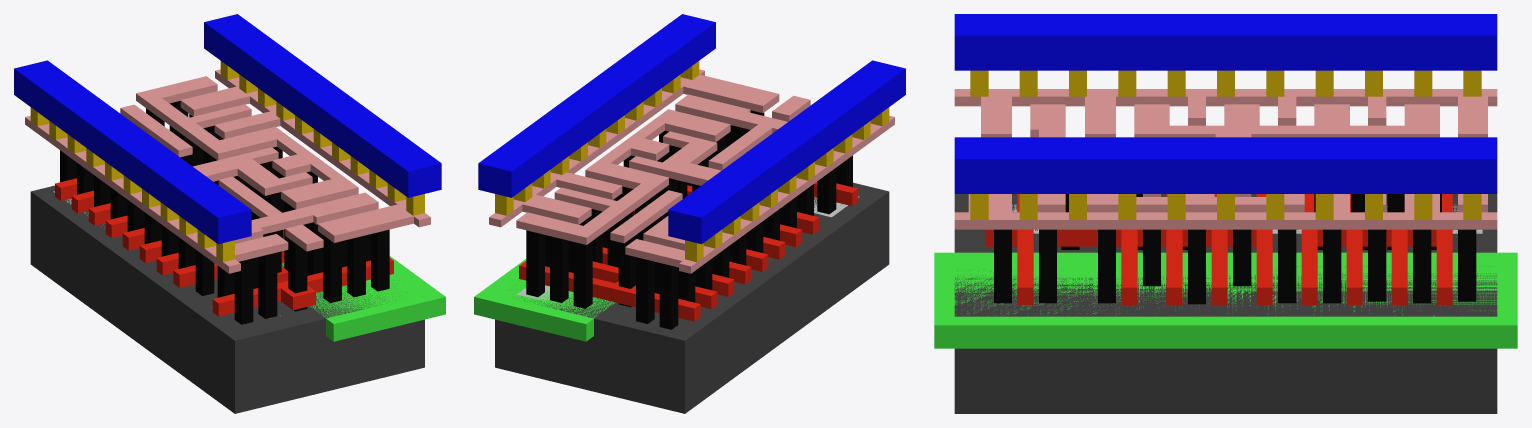
Rendered from sky130_fd_sc_hd__lpflow_isobufsrc_4.obj.
The picture shows the model from 3 angles, left to right: view 1: azimuth 30°, elevation 25°; view 2: azimuth 150°, elevation 25°; view 3: azimuth 270°, elevation 25°; orthographic projection. The views are drawn at different scales.
Parts seen in each view (by area): view 1: subs, metal1, li, licon, nwell, poly, mcon; view 2: subs, metal1, li, licon, poly, mcon, nwell; view 3: metal1, subs, li, nwell, licon, poly, mcon.
Part boxes in pixels (bbox=[...]): subs: bbox=[30, 185, 424, 413]; metal1: bbox=[14, 14, 441, 244]; li: bbox=[25, 69, 430, 273]; licon: bbox=[60, 101, 389, 324]; nwell: bbox=[281, 256, 445, 341]; poly: bbox=[55, 178, 393, 316]; mcon: bbox=[30, 61, 424, 262]; subs: bbox=[495, 182, 889, 413]; metal1: bbox=[478, 14, 905, 244]; li: bbox=[489, 69, 894, 273]; licon: bbox=[526, 110, 852, 329]; poly: bbox=[519, 181, 858, 321]; mcon: bbox=[495, 61, 889, 262]; nwell: bbox=[474, 259, 615, 341]; metal1: bbox=[954, 14, 1497, 193]; subs: bbox=[954, 194, 1497, 413]; li: bbox=[954, 89, 1497, 229]; nwell: bbox=[934, 252, 1517, 348]; licon: bbox=[994, 194, 1476, 304]; poly: bbox=[985, 194, 1452, 305]; mcon: bbox=[970, 70, 1481, 219].
Bounding box in the file's own units: 3.2 × 2.74 × 5.44.
